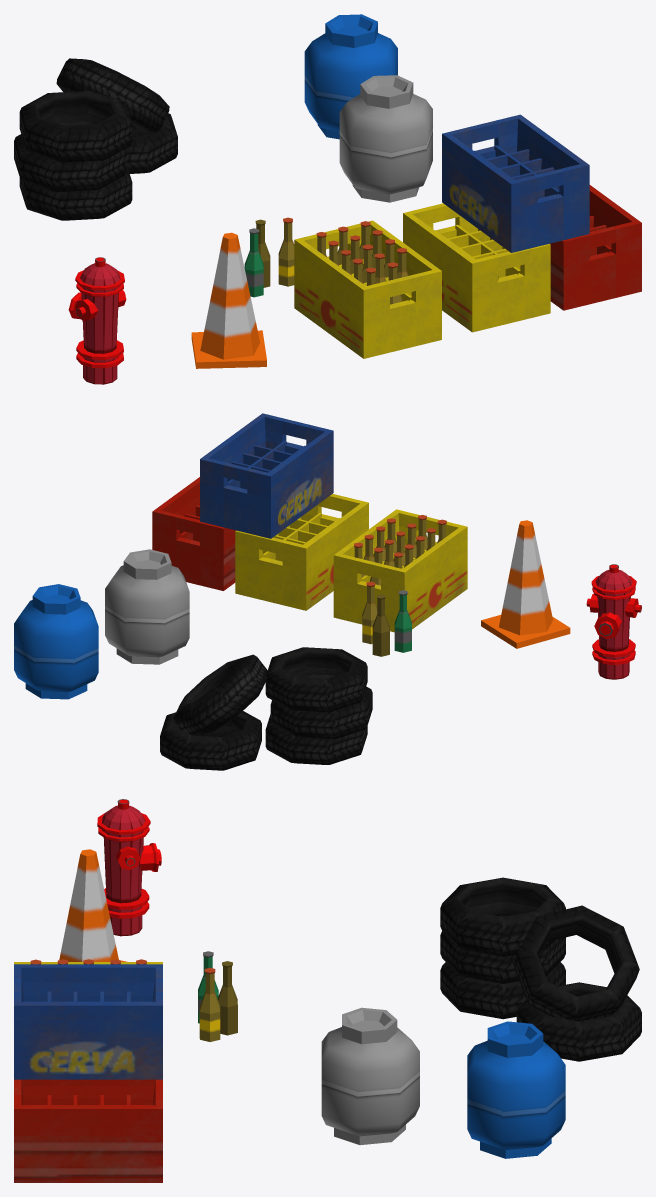
File: avulsos_mod.fbx
3 renders of one model, top to bottom at view 1: azimuth 30°, elevation 25°; view 2: azimuth 150°, elevation 25°; view 3: azimuth 270°, elevation 25°, orthographic. The views are drawn at different scales.
Visible parts, largest first — view 1: caixa-cerveja-azul, caixa-cerveja-amarela.001, caixa-cerveja-amarela, botijao-cinza, caixa-cerveja-vermelha, botijao-azul, pneu.003, cone, hidrante, pneu.004, pneu.002, pneu.001 (+4 smaller); view 2: caixa-cerveja-azul, caixa-cerveja-amarela, caixa-cerveja-amarela.001, botijao-azul, botijao-cinza, caixa-cerveja-vermelha, pneu.003, cone, pneu.004, hidrante, pneu, pneu.002 (+4 smaller); view 3: caixa-cerveja-azul, caixa-cerveja-vermelha, botijao-azul, botijao-cinza, pneu.004, pneu.003, hidrante, pneu, cone, pneu.001, pneu.002, garrafa3 (+1 smaller).
Boxes of the visible parts, bbox=[...] form: caixa-cerveja-azul: bbox=[442, 114, 589, 252]; caixa-cerveja-amarela.001: bbox=[294, 220, 441, 358]; caixa-cerveja-amarela: bbox=[403, 203, 550, 332]; botijao-cinza: bbox=[339, 75, 432, 202]; caixa-cerveja-vermelha: bbox=[550, 185, 641, 310]; botijao-azul: bbox=[304, 14, 397, 139]; pneu.003: bbox=[19, 90, 132, 162]; cone: bbox=[191, 232, 266, 368]; hidrante: bbox=[68, 257, 126, 384]; pneu.004: bbox=[56, 58, 169, 132]; pneu.002: bbox=[14, 120, 126, 192]; pneu.001: bbox=[19, 163, 132, 220]; caixa-cerveja-azul: bbox=[200, 413, 333, 538]; caixa-cerveja-amarela: bbox=[235, 494, 368, 610]; caixa-cerveja-amarela.001: bbox=[333, 509, 467, 632]; botijao-azul: bbox=[14, 584, 98, 699]; botijao-cinza: bbox=[105, 549, 189, 664]; caixa-cerveja-vermelha: bbox=[152, 477, 235, 590]; pneu.003: bbox=[265, 647, 367, 712]; cone: bbox=[481, 520, 570, 648]; pneu.004: bbox=[173, 654, 267, 735]; hidrante: bbox=[586, 564, 641, 679]; pneu: bbox=[160, 711, 261, 770]; pneu.002: bbox=[270, 674, 372, 739]; caixa-cerveja-azul: bbox=[14, 964, 162, 1079]; caixa-cerveja-vermelha: bbox=[14, 1079, 162, 1182]; botijao-azul: bbox=[467, 1021, 565, 1158]; botijao-cinza: bbox=[321, 1007, 419, 1145]; pneu.004: bbox=[513, 905, 639, 1021]; pneu.003: bbox=[440, 877, 565, 956]; hidrante: bbox=[97, 799, 161, 936]; pneu: bbox=[516, 982, 641, 1061]; cone: bbox=[59, 849, 127, 961]; pneu.001: bbox=[440, 962, 565, 1019]; pneu.002: bbox=[440, 931, 565, 983]; garrafa3: bbox=[199, 967, 220, 1041].
Bounding box in the file's own units: 231 × 60.72 × 225.
